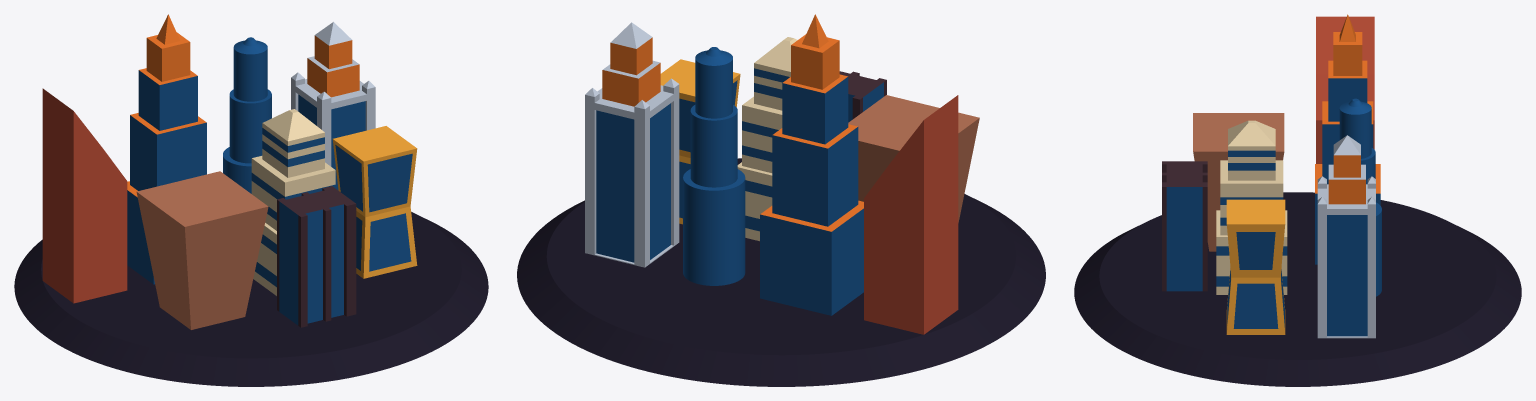
The model's file is City.glb.
3 views of the same model, side by side, from view 1: azimuth 30°, elevation 25°; view 2: azimuth 150°, elevation 25°; view 3: azimuth 270°, elevation 25° (orthographic). The views are drawn at different scales.
Parts seen in each view (by area): view 1: Platform, Building 7, Building 4, Building 1, Building 6, Building 3, Building 2, Building 5, Building 8; view 2: Platform, Building 1, Building 5, Building 4, Building 8, Building 2, Building 7, Building 3, Building 6; view 3: Platform, Building 5, Building 3, Building 6, Building 2, Building 1, Building 7, Building 4, Building 8.
Part boxes in pixels (x1,y1,x2,y2): Platform: [14, 212, 488, 386]; Building 7: [136, 171, 268, 329]; Building 4: [42, 88, 127, 303]; Building 1: [127, 14, 206, 284]; Building 6: [277, 186, 356, 327]; Building 3: [332, 126, 417, 278]; Building 2: [251, 109, 335, 295]; Building 5: [291, 22, 375, 190]; Building 8: [223, 37, 271, 193]; Platform: [517, 158, 1045, 386]; Building 1: [760, 14, 863, 315]; Building 5: [585, 22, 679, 267]; Building 4: [864, 95, 958, 334]; Building 8: [683, 47, 745, 285]; Building 2: [737, 37, 797, 241]; Building 7: [848, 95, 979, 222]; Building 3: [660, 59, 740, 224]; Building 6: [839, 71, 886, 122]; Platform: [1074, 192, 1521, 386]; Building 5: [1317, 135, 1375, 338]; Building 3: [1226, 199, 1285, 334]; Building 6: [1162, 161, 1207, 291]; Building 2: [1216, 120, 1287, 294]; Building 1: [1315, 14, 1380, 264]; Building 7: [1193, 113, 1284, 251]; Building 4: [1316, 16, 1374, 163]; Building 8: [1339, 98, 1381, 296].
Bounding box in the file's own units: 15.31 × 9.52 × 15.31.
